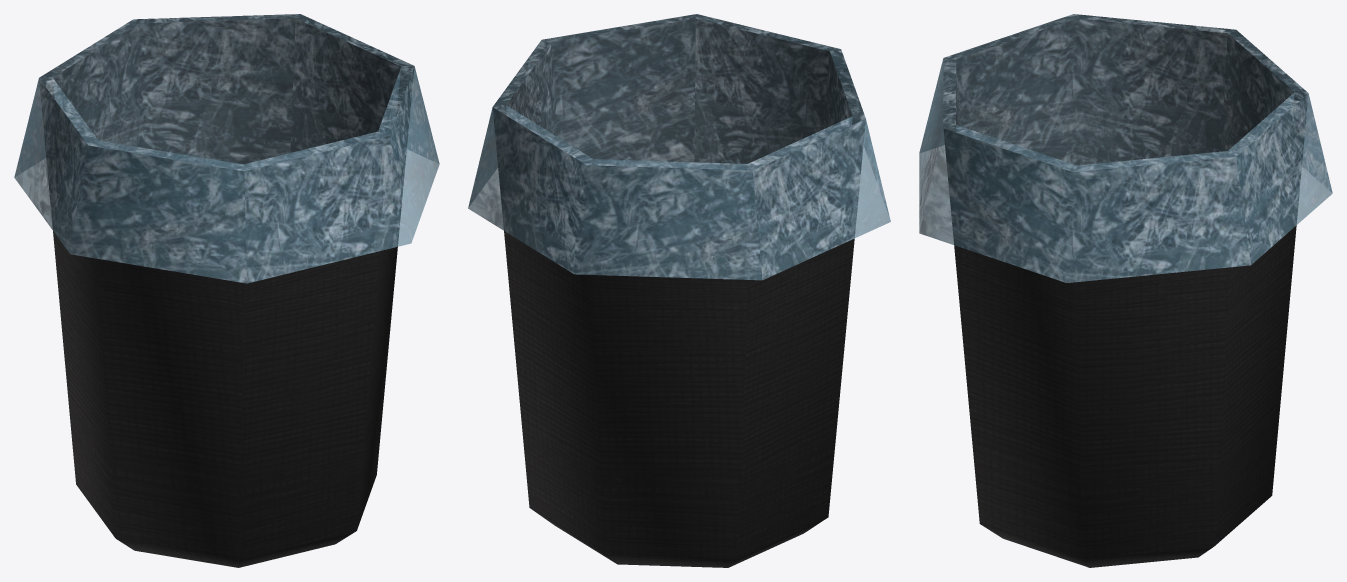
The model's file is Trash_can_01-col.glb.
3 renders of one model, left to right at view 1: azimuth 30°, elevation 25°; view 2: azimuth 150°, elevation 25°; view 3: azimuth 270°, elevation 25°, orthographic.
Parts seen in each view (by area): view 1: Trash_can_01-col; view 2: Trash_can_01-col; view 3: Trash_can_01-col.
Part boxes in pixels (bbox=[...]): Trash_can_01-col: bbox=[14, 14, 439, 567]; Trash_can_01-col: bbox=[468, 14, 890, 567]; Trash_can_01-col: bbox=[919, 14, 1332, 567].
Bounding box in the file's own units: 0.5538 × 0.6095 × 0.5399.
Materials: 2 (2 with a texture image).
